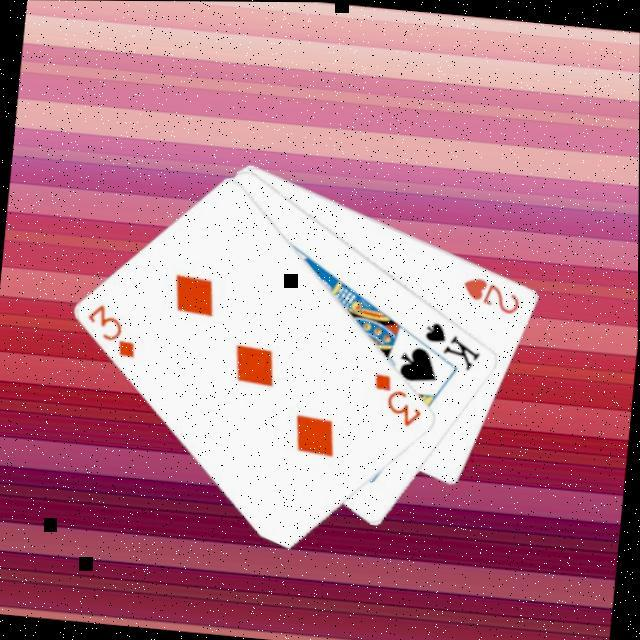2H: (460, 270, 527, 314)
3D: (369, 366, 432, 428), (82, 296, 144, 359)
KS: (420, 314, 488, 371)
